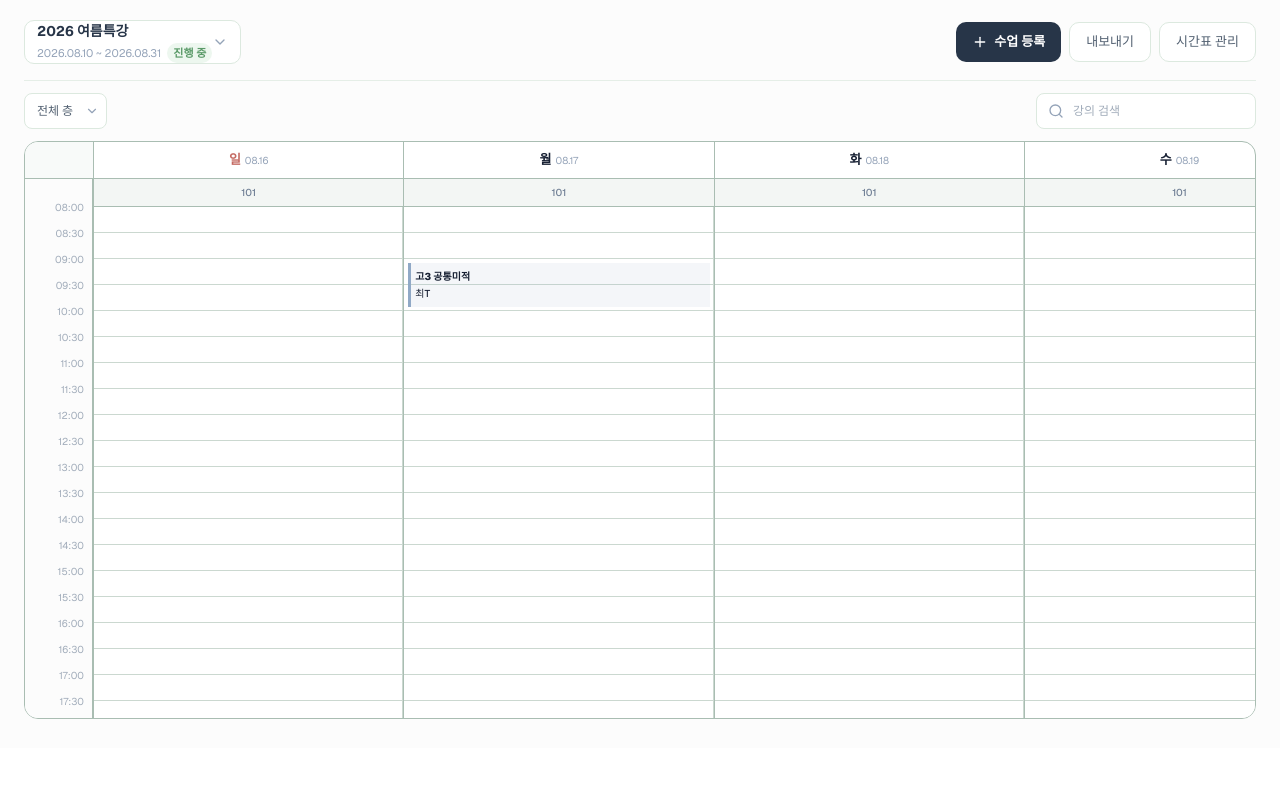
Test: TimetableContainer › 수업 상세에서 수정을 클릭하면 기존 값으로 등록 모달이 열린다
This screenshot has width=1280, height=800.
Click the button with aria-label "공통미적 수업 상세" at {"x": 443, "y": 276}, box [408,262,710,306]
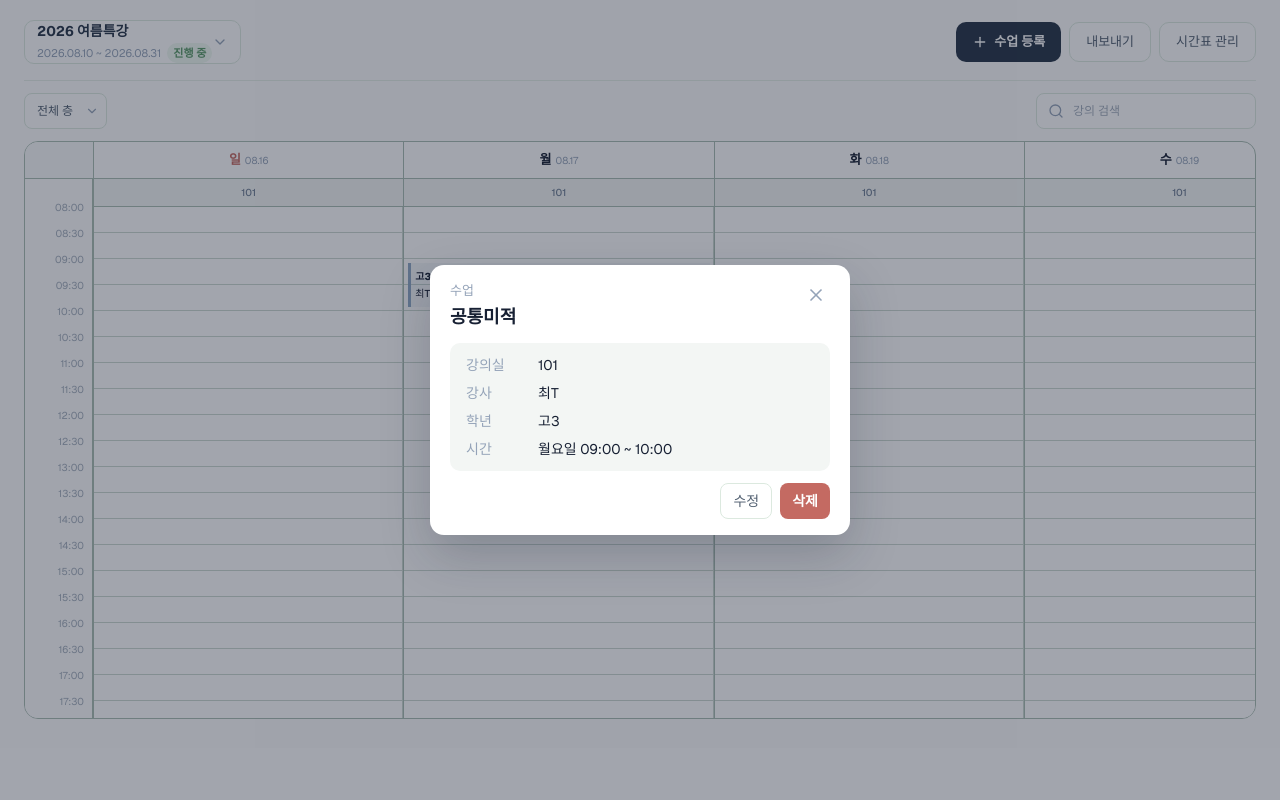
Click the button "수정" at {"x": 746, "y": 501}, box [720,483,772,519]
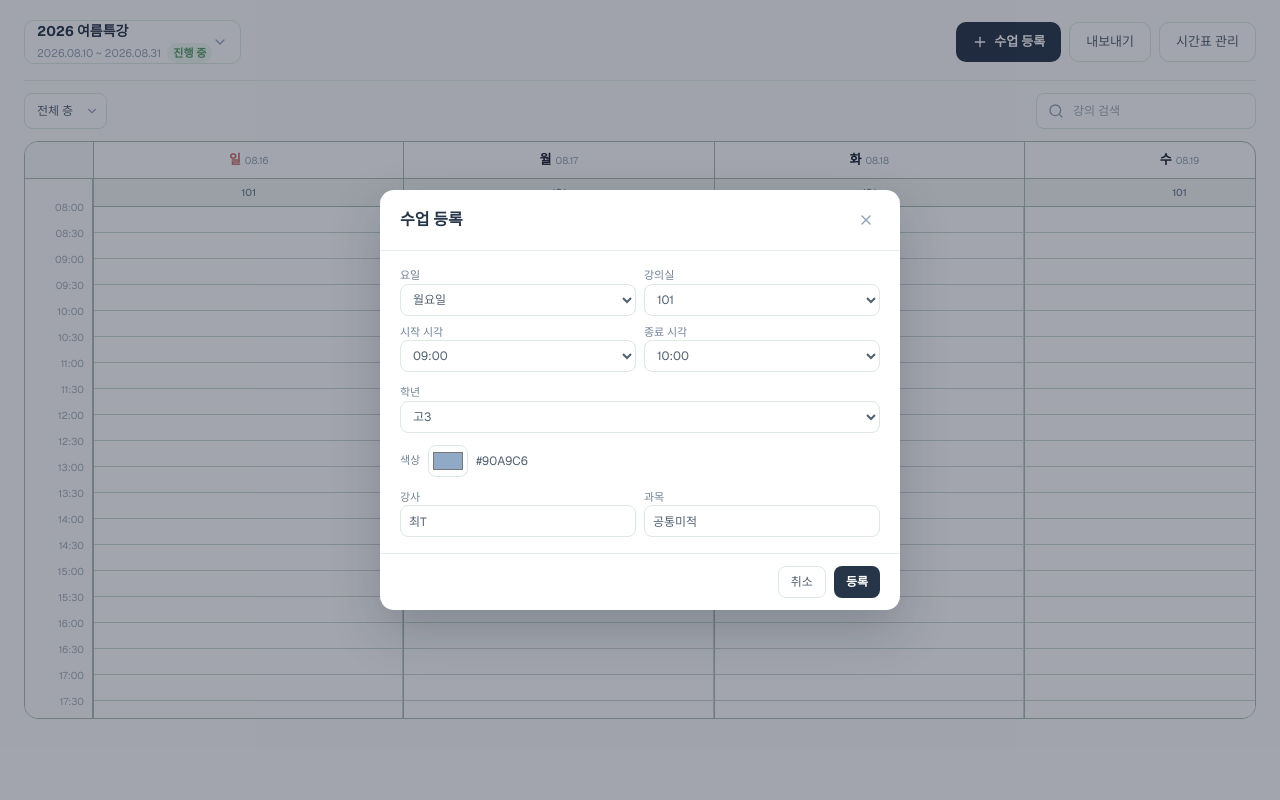
Check: the field labelled "강사" holds "최T", box [400,505,636,537]
